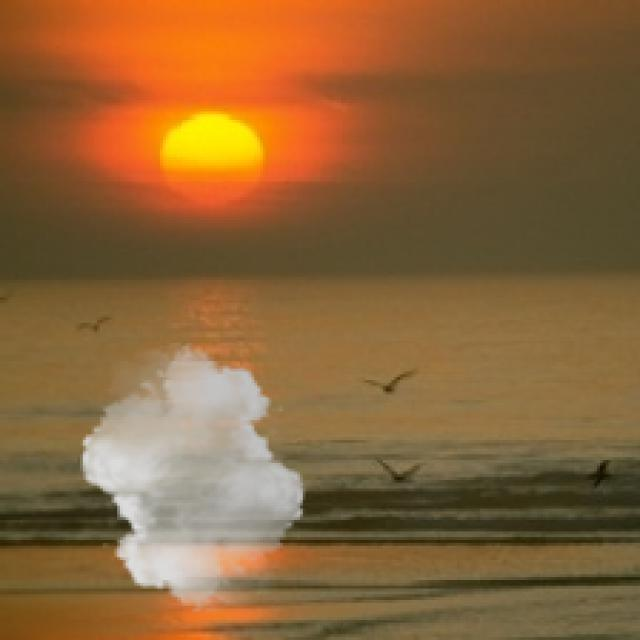smoke: (72, 343, 314, 611)
